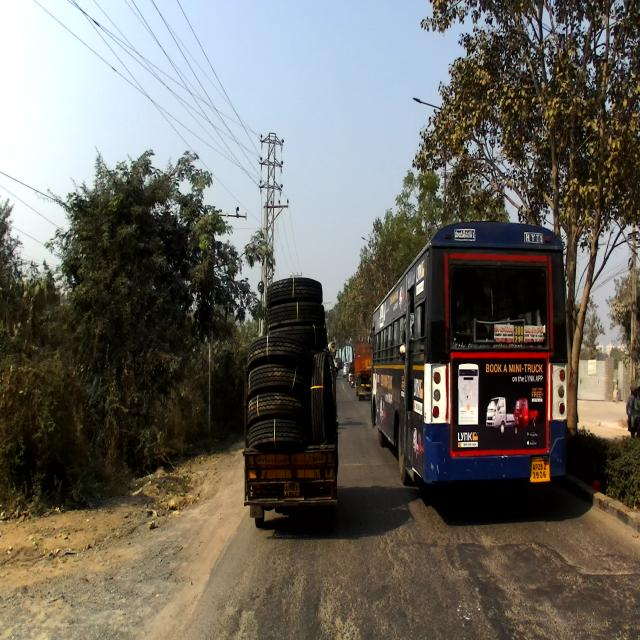bus ahead at: (369, 218, 573, 495)
truck ahead at: (245, 272, 343, 524)
